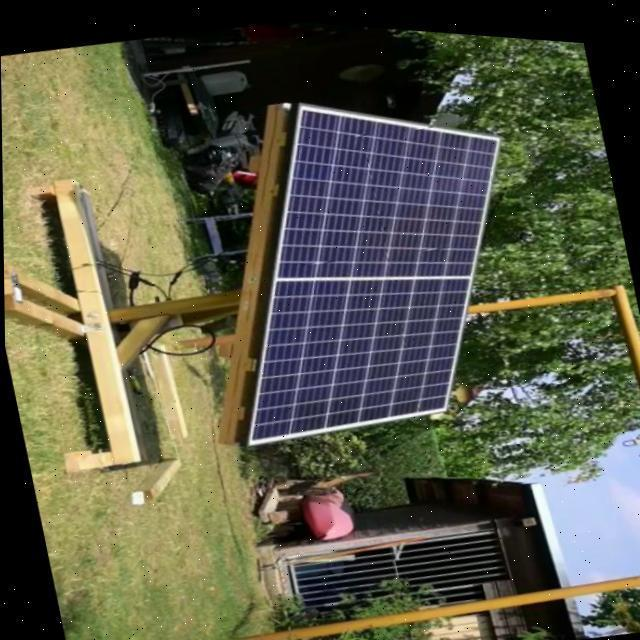Normal Solar Panel: (180, 57, 552, 460)
